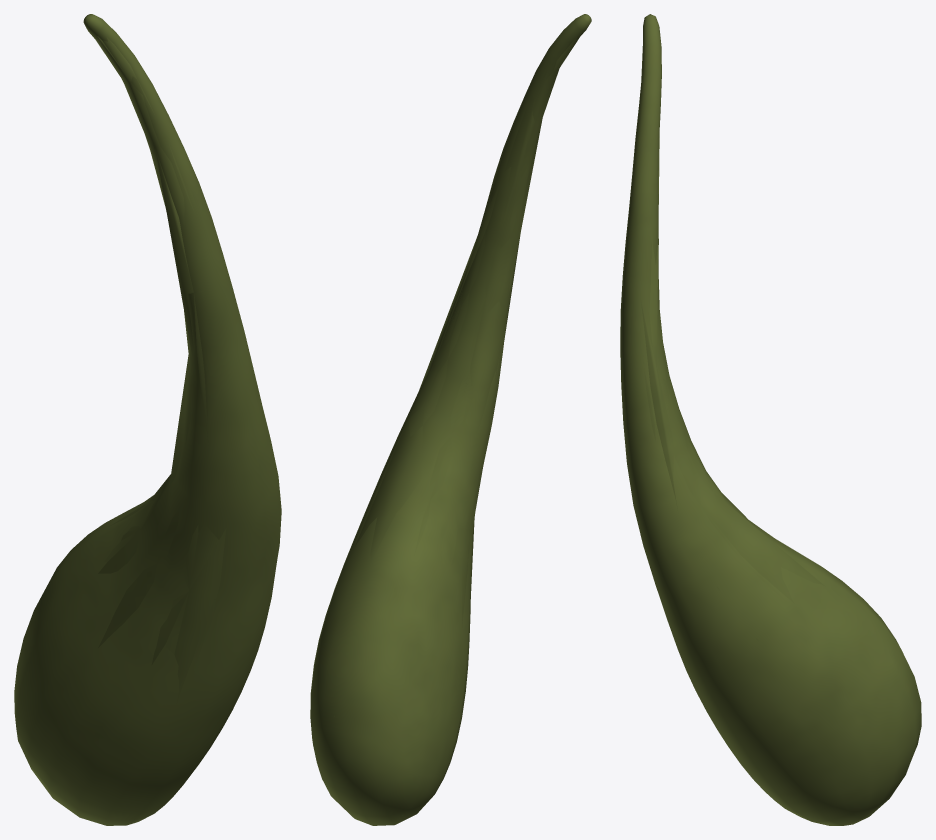
The model's file is Gallbladder.fbx.
3 renders of one model, left to right at view 1: azimuth 30°, elevation 25°; view 2: azimuth 150°, elevation 25°; view 3: azimuth 270°, elevation 25°, orthographic. The views are drawn at different scales.
Parts seen in each view (by area): view 1: Gallbladder high, Gallbladder low, Gallbladder; view 2: Gallbladder high, Gallbladder low, Gallbladder; view 3: Gallbladder high, Gallbladder low, Gallbladder.
Part boxes in pixels (x1,y1,x2,y2): Gallbladder high: (14, 14, 281, 825); Gallbladder low: (97, 36, 226, 703); Gallbladder: (87, 18, 237, 805); Gallbladder high: (310, 14, 591, 825); Gallbladder low: (355, 94, 542, 627); Gallbladder: (334, 17, 591, 815); Gallbladder high: (620, 14, 921, 825); Gallbladder low: (640, 131, 825, 603); Gallbladder: (640, 46, 914, 824).
Size of the model in its own units: 1.86 by 7.2 by 2.61.
1 material, 1 textured.
